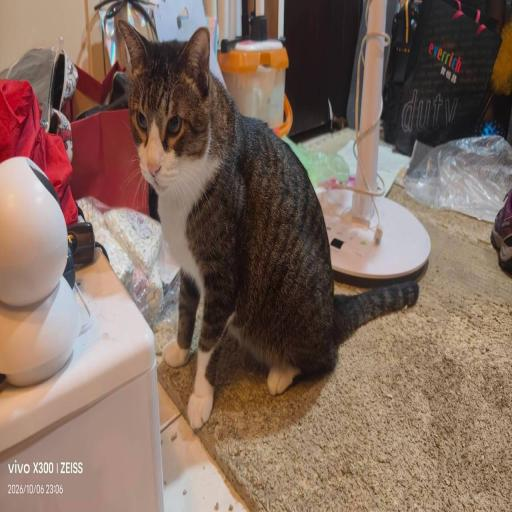cat: (127, 34, 357, 426)
